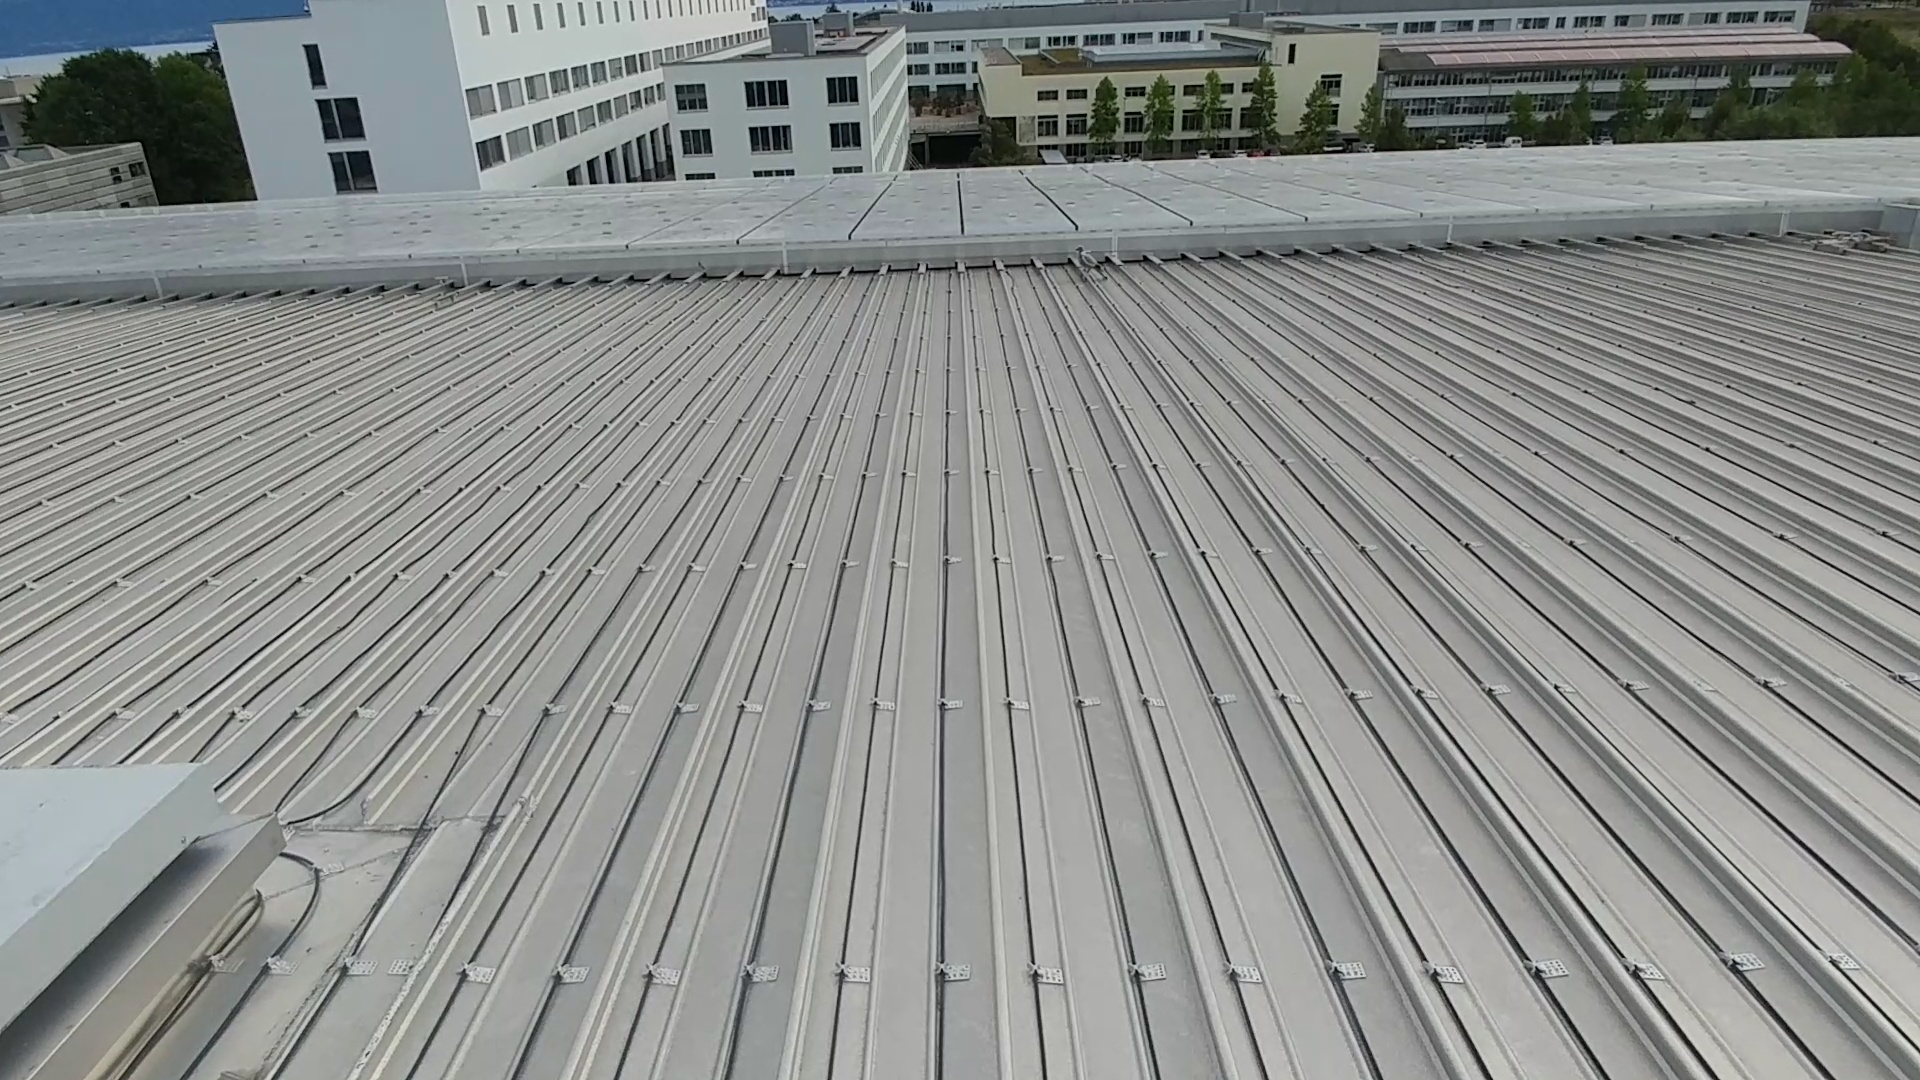Pigeon: (1069, 247, 1112, 281)
